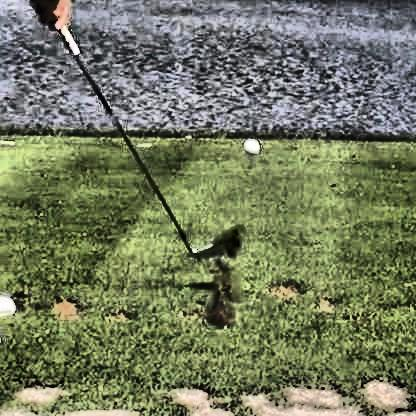golfball: (242, 135, 262, 156)
